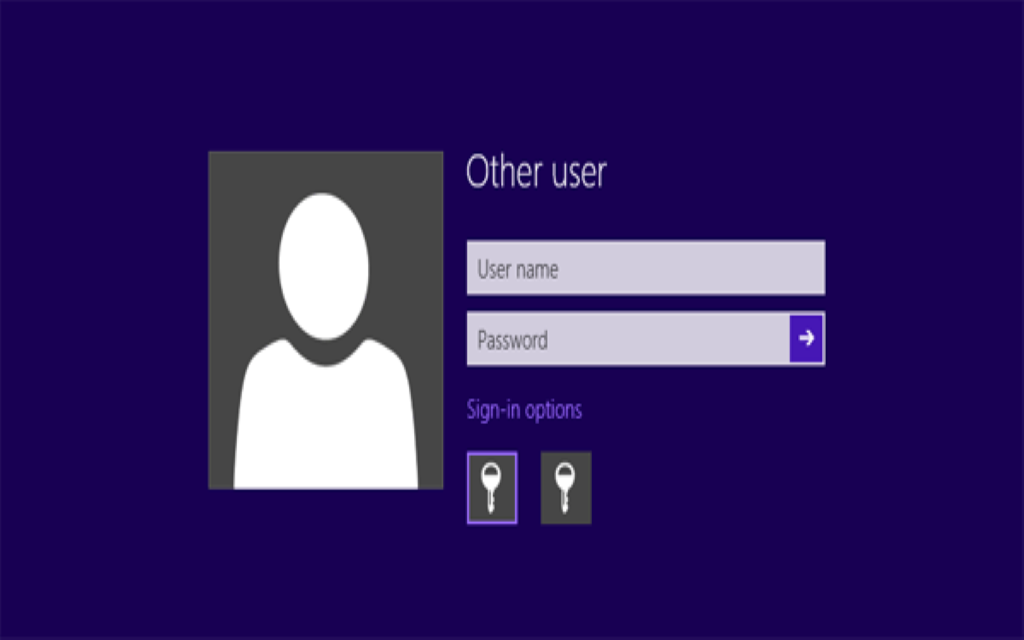button: (540, 450, 592, 525), (467, 453, 518, 525)
label_Username: (476, 251, 562, 284)
label_password: (476, 326, 556, 355)
textbox: (466, 239, 825, 296), (468, 309, 826, 366)
textbox_Password: (466, 309, 829, 368)
textbox_username: (467, 245, 826, 297)
